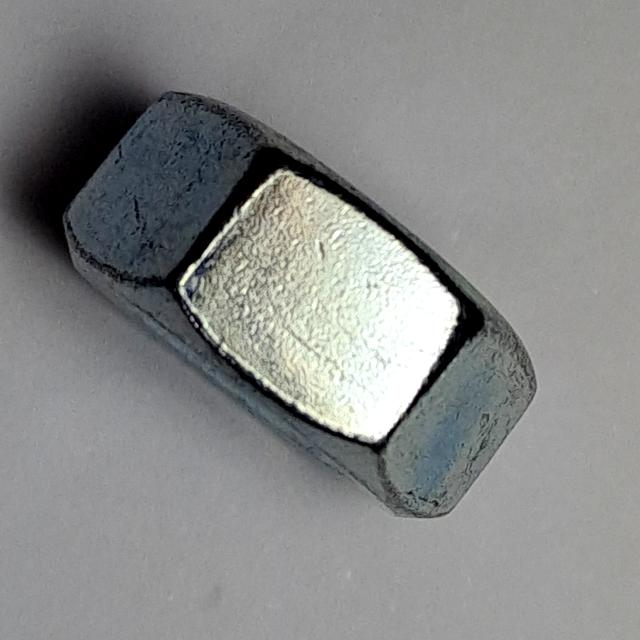Side_Excellent: (55, 83, 558, 529)
